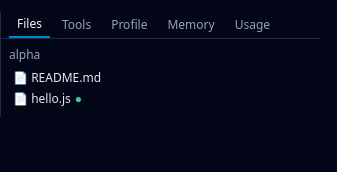
Test: AgentSidePanel › marks files the run touched and shows the per-message usage breakdown
Expected: the button titled "touched by this conversation" shows "hello.js", x1=9 y1=89 x2=312 y2=109
Click the tab "usage": [252, 25] box x1=227 y1=12 x2=278 y2=38
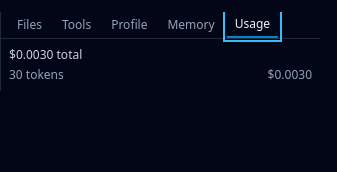
Result: the text "30 tokens" is shown at x1=9 y1=67 x2=64 y2=83
Result: the text "$0.0030 total" is shown at x1=9 y1=46 x2=82 y2=63
